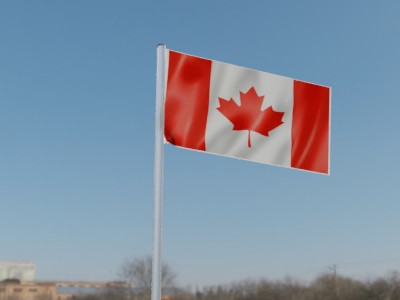Canada flag: (165, 49, 334, 174)
